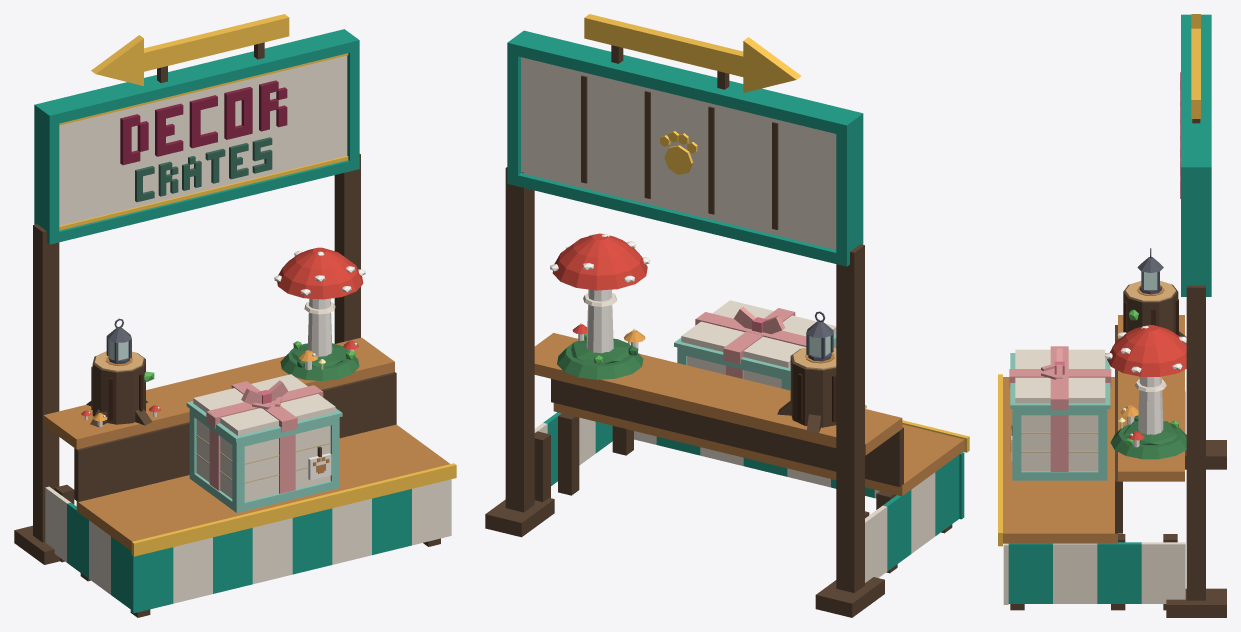
Rendered from CatCafe_Square_DecorStand.glb.
3 renders of one model, left to right at view 1: azimuth 30°, elevation 25°; view 2: azimuth 150°, elevation 25°; view 3: azimuth 270°, elevation 25°, orthographic. The views are drawn at different scales.
Visible parts, largest first — view 1: CatCafe_Square_DecorStand, CatCafe_Square_DecorStand_Crate_Decor, CatCafe_Square_DecorStand_Lamp_Decor, CatCafe_Square_DecorStand_Crate_Lid_Decor, CatCafe_Square_DecorStand_Stump_Decor; view 2: CatCafe_Square_DecorStand, CatCafe_Square_DecorStand_Lamp_Decor, CatCafe_Square_DecorStand_Crate_Lid_Decor, CatCafe_Square_DecorStand_Stump_Decor, CatCafe_Square_DecorStand_Crate_Decor; view 3: CatCafe_Square_DecorStand, CatCafe_Square_DecorStand_Lamp_Decor, CatCafe_Square_DecorStand_Crate_Decor, CatCafe_Square_DecorStand_Crate_Lid_Decor, CatCafe_Square_DecorStand_Stump_Decor.
Boxes of the visible parts, x1,y1,x2,y2 form: CatCafe_Square_DecorStand: (14,14,456,617); CatCafe_Square_DecorStand_Crate_Decor: (189,409,339,512); CatCafe_Square_DecorStand_Lamp_Decor: (274,247,365,380); CatCafe_Square_DecorStand_Crate_Lid_Decor: (186,374,342,442); CatCafe_Square_DecorStand_Stump_Decor: (81,318,160,427); CatCafe_Square_DecorStand: (485,14,969,617); CatCafe_Square_DecorStand_Lamp_Decor: (550,233,650,379); CatCafe_Square_DecorStand_Crate_Lid_Decor: (674,300,836,374); CatCafe_Square_DecorStand_Stump_Decor: (777,311,866,433); CatCafe_Square_DecorStand_Crate_Decor: (677,342,836,390); CatCafe_Square_DecorStand: (998,14,1226,617); CatCafe_Square_DecorStand_Lamp_Decor: (1104,325,1186,459); CatCafe_Square_DecorStand_Crate_Decor: (1010,409,1107,480); CatCafe_Square_DecorStand_Crate_Lid_Decor: (1009,346,1111,410); CatCafe_Square_DecorStand_Stump_Decor: (1112,248,1186,346).
Size of the model in its own units: 4.84 by 6.77 by 2.84.
1 material, 1 textured.
